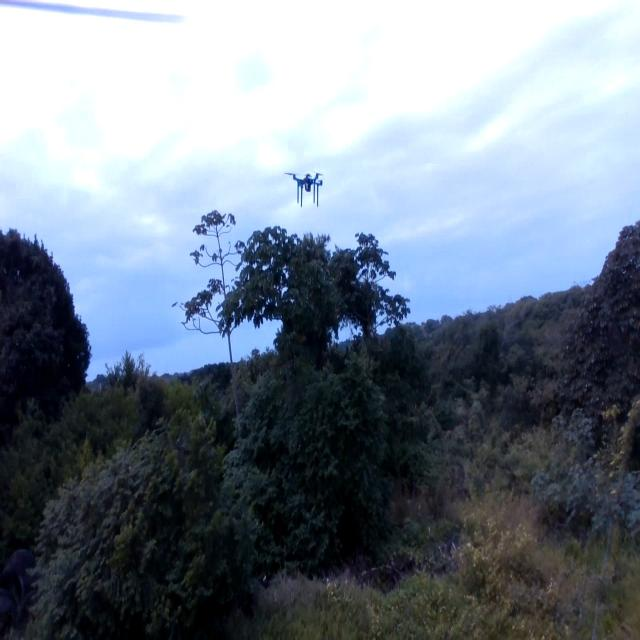-uav-: (284, 163, 328, 214)
